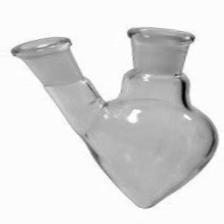Pear shaped flask: (6, 18, 219, 208)
